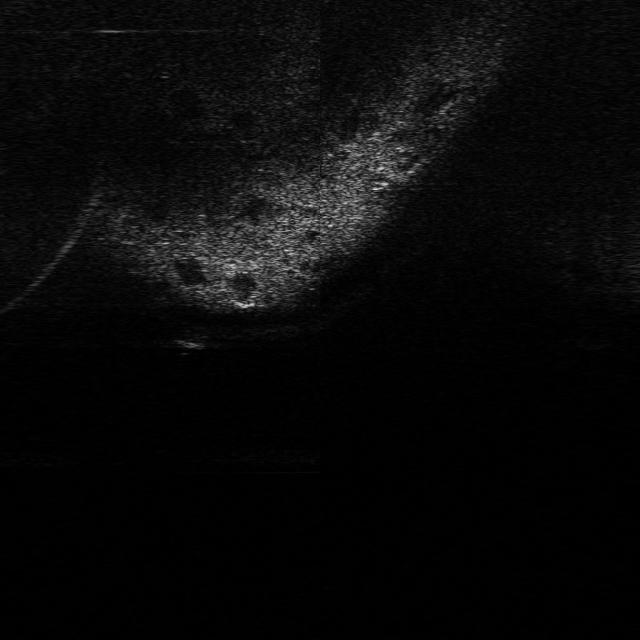cube: (168, 320, 211, 351)
